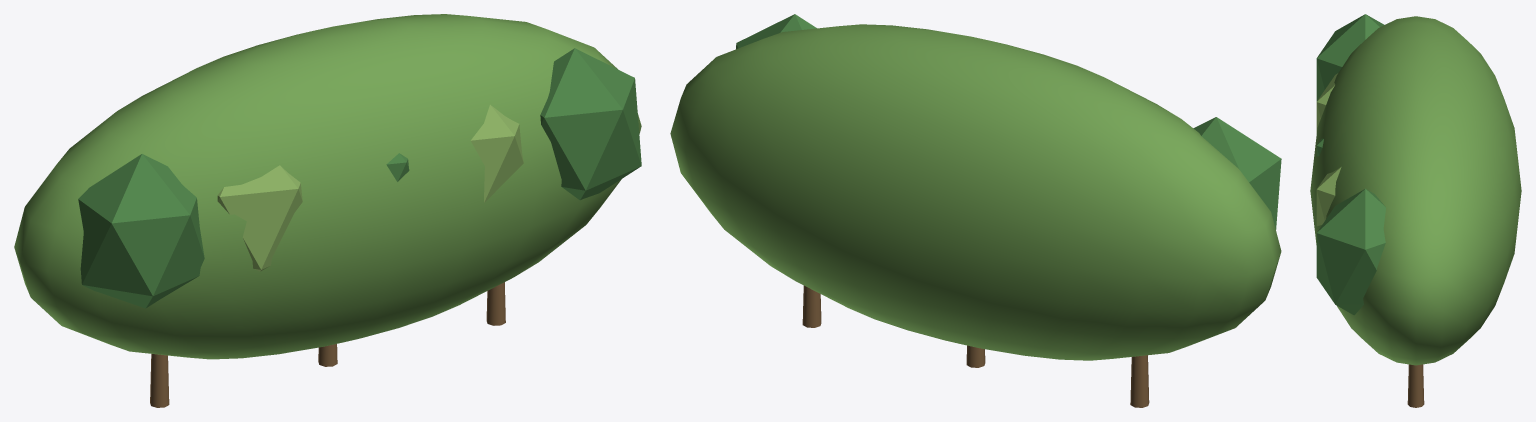
Rendered from hedge_rounded.glb.
3 views of the same model, side by side, from view 1: azimuth 30°, elevation 25°; view 2: azimuth 150°, elevation 25°; view 3: azimuth 270°, elevation 25° (orthographic). The views are drawn at different scales.
Visible parts, largest first — view 1: Rounded hedge mound, Soft foliage variation, Soft foliage variation.004, Soft foliage variation.001, Soft foliage variation.003, Short woody stem, Short woody stem.002; view 2: Rounded hedge mound, Soft foliage variation, Short woody stem, Soft foliage variation.004, Short woody stem.002; view 3: Rounded hedge mound, Soft foliage variation.004, Soft foliage variation, Soft foliage variation.003, Short woody stem.002, Soft foliage variation.001.
Part boxes in pixels (box(x1,y1,x2,y2)): Rounded hedge mound: box(14, 14, 641, 359); Soft foliage variation: box(78, 154, 204, 308); Soft foliage variation.004: box(540, 48, 641, 200); Soft foliage variation.001: box(217, 165, 302, 271); Soft foliage variation.003: box(470, 104, 523, 202); Short woody stem: box(150, 354, 169, 407); Short woody stem.002: box(486, 282, 505, 325); Rounded hedge mound: box(670, 24, 1281, 360); Soft foliage variation: box(1193, 117, 1281, 229); Short woody stem: box(1130, 355, 1149, 407); Soft foliage variation.004: box(736, 14, 816, 49); Short woody stem.002: box(802, 285, 821, 327); Rounded hedge mound: box(1310, 16, 1521, 365); Soft foliage variation.004: box(1316, 189, 1385, 315); Soft foliage variation: box(1316, 14, 1384, 101); Soft foliage variation.003: box(1316, 167, 1341, 226); Short woody stem.002: box(1407, 364, 1424, 407); Soft foliage variation.001: box(1316, 73, 1337, 132).
Size of the model in its own units: 2.56 by 1.29 by 0.92.
